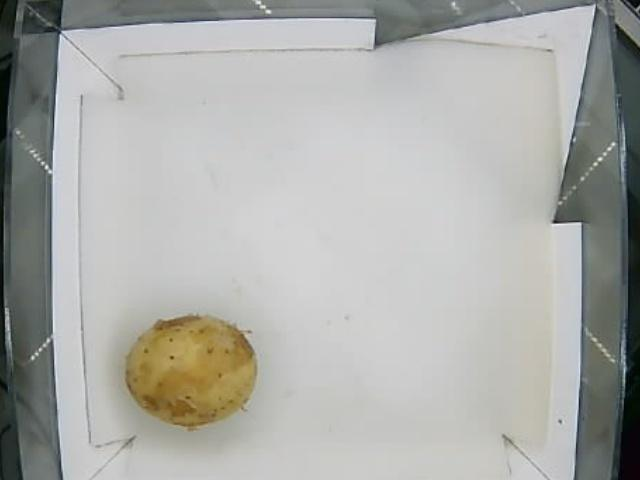Potato: (123, 316, 254, 429)
